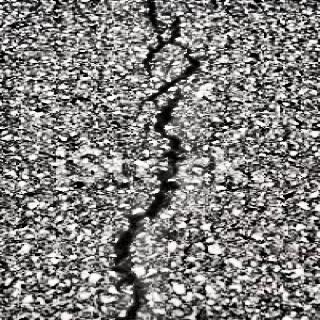crack: (140, 0, 202, 206), (109, 205, 168, 320)
